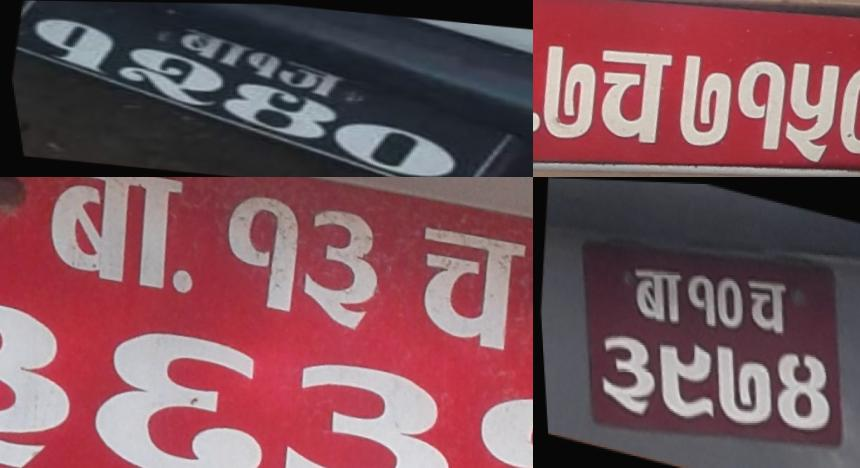0: (318, 116, 459, 177), (824, 55, 860, 165), (708, 263, 748, 342)
1: (199, 178, 316, 317), (719, 47, 795, 163), (20, 15, 125, 72), (678, 263, 721, 337), (237, 49, 281, 77)
2: (443, 373, 533, 468), (108, 45, 228, 103)
3: (254, 344, 468, 468), (0, 275, 92, 468), (289, 197, 394, 333), (586, 320, 660, 422)
4: (764, 341, 837, 444), (210, 79, 332, 138)
5: (771, 53, 847, 170)
6: (66, 310, 290, 468)
7: (664, 40, 742, 156), (533, 38, 603, 149), (706, 341, 777, 438)
9: (646, 331, 720, 432)
ba: (20, 177, 197, 301), (625, 258, 687, 336), (170, 28, 250, 66)
cha: (393, 209, 533, 361), (582, 39, 678, 153), (737, 266, 796, 345)
ja: (272, 58, 345, 95)
